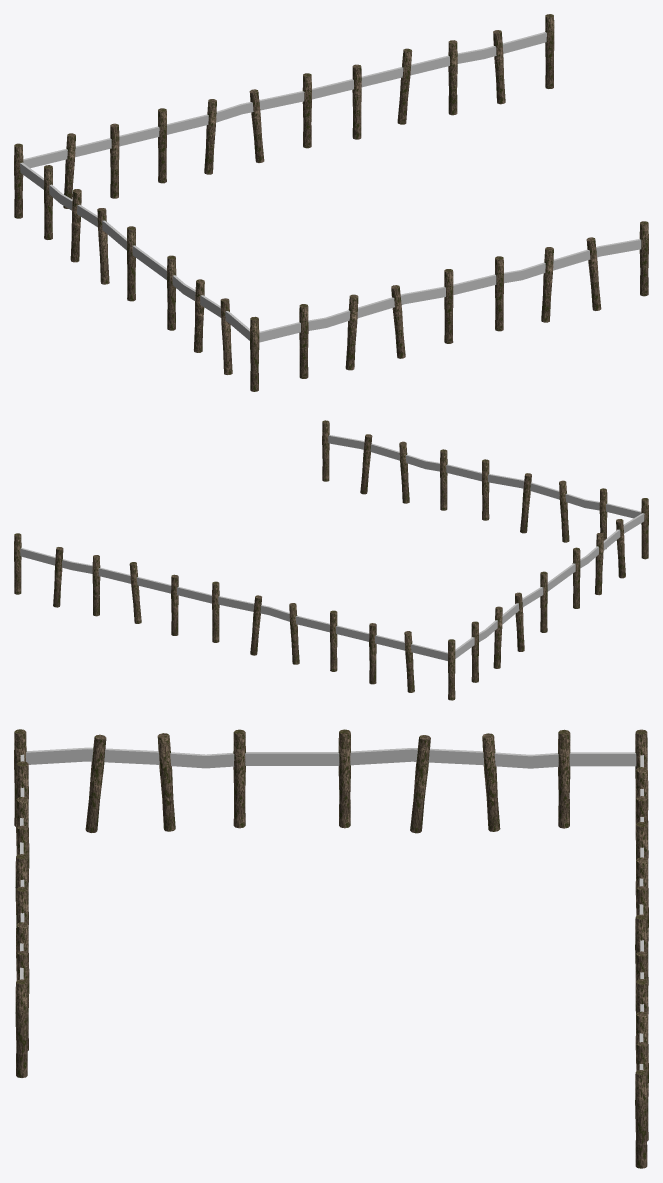
The model's file is fence_2F_house2.FBX.
3 views of the same model, one above another, from view 1: azimuth 30°, elevation 25°; view 2: azimuth 150°, elevation 25°; view 3: azimuth 270°, elevation 25° (orthographic). The views are drawn at different scales.
Parts seen in each view (by area): view 1: Object783; view 2: Object783; view 3: Object783.
Boxes of the visible parts, <box> form: Object783: <box>14,14,648,391</box>; Object783: <box>14,420,648,700</box>; Object783: <box>14,729,648,1168</box>.
Size of the model in its own units: 1393 by 186 by 1080.
